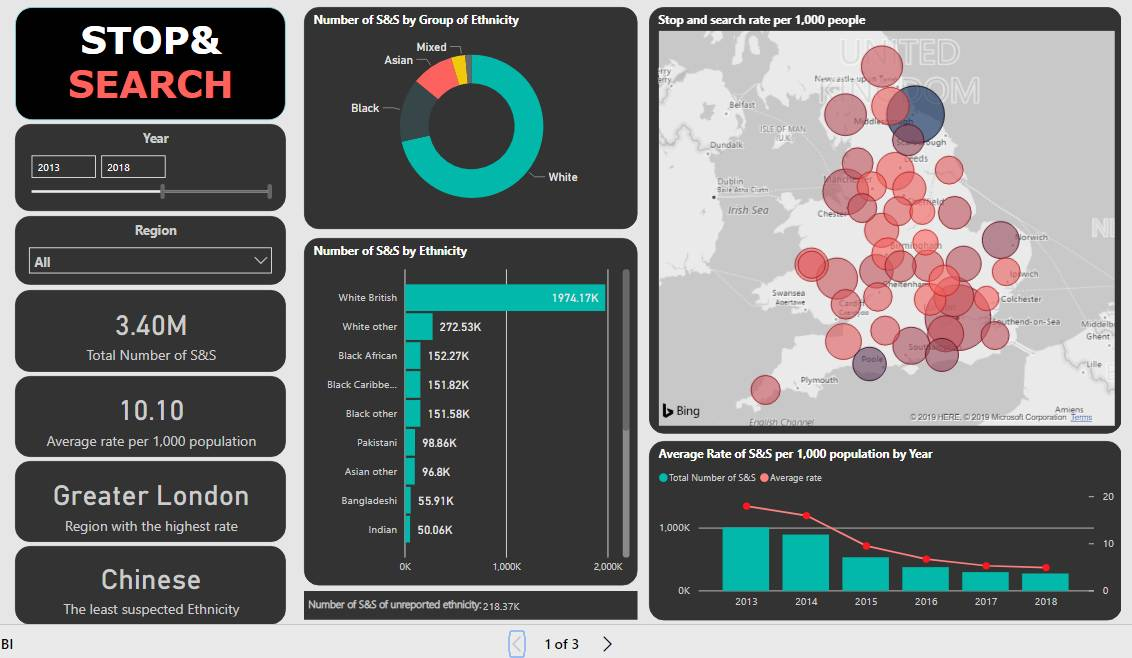

Layout of this report page (visuals, bound fields, positions):
{"tool":"powerbi","page":{"name":"Main","canvas":[1280,720],"ordinal":0},"visuals":[{"type":"textbox","box":[9.3,10.6,311.4,130],"z":0},{"type":"card","fields":{"Values":["Data.Least suspect"]},"box":[9.3,629.4,311.4,90.5],"z":12},{"type":"slicer","title":"Region","fields":{"Values":["Data.Geography"]},"box":[9.3,250.1,311.4,78.5],"z":13},{"type":"card","fields":{"Values":["Data.Measure"]},"box":[9.3,532.2,311.4,93.1],"z":506},{"type":"donutChart","title":"Number of S&S by Group of Ethnicity","fields":{"Y":["Sum(Data. Number of stop and searches )"],"Category":["Data.Ethnicity_group"]},"box":[340.6,10.6,383.2,255.5],"z":1000},{"type":"barChart","title":"Number of S&S by Ethnicity","fields":{"Category":["Data.Ethnicity"],"Y":["Sum(Data. Number of stop and searches )"]},"box":[340.6,275.4,383.2,399.2],"z":2000},{"type":"card","fields":{"Values":["Data.Total Number of S&S"]},"box":[9.3,335.3,311.4,94.5],"z":3000},{"type":"card","fields":{"Values":["Data.Average rate"]},"box":[9.3,433.8,311.4,93],"z":4000},{"type":"slicer","title":"Year","fields":{"Values":["Data.Year.Variation.Date Hierarchy.Year"]},"box":[9.3,145,311.4,99.8],"z":5000},{"type":"lineStackedColumnComboChart","title":"Average Rate of S&S per 1,000 population by Year","fields":{"Category":["Data.Year.Variation.Date Hierarchy.Year"],"Y2":["Data.Average rate"],"Y":["Data.Total Number of S&S"]},"box":[737.1,508.3,542.9,206.2],"z":7000},{"type":"textbox","box":[340.6,681.2,383.2,33.3],"z":14500},{"type":"card","fields":{"Values":["Sum(Data. Number of stop and searches )"]},"box":[532.2,682.6,71.9,37.3],"z":15000},{"type":"map","title":"Stop and search rate per 1,000 people","fields":{"Category":["Data.Country","Data.Region2"],"Size":["Data.Average rate"]},"box":[737.1,10.6,542.9,489.6],"z":15001}]}

Visuals, with their boxes in screenshot pixels (x1, y1, x2, y2):
textbox: [11,3,283,117]
card - Data.Least suspect: [11,543,283,622]
"Region" slicer: [11,212,283,281]
card - Data.Measure: [11,458,283,539]
"Number of S&S by Group of Ethnicity" donutChart: [300,3,634,226]
"Number of S&S by Ethnicity" barChart: [300,234,634,582]
card - Data.Total Number of S&S: [11,287,283,369]
card - Data.Average rate: [11,372,283,454]
"Year" slicer: [11,121,283,208]
"Average Rate of S&S per 1,000 population by Year" lineStackedColumnComboChart: [646,437,1119,617]
textbox: [300,588,634,617]
card - Sum(Data. Number of stop and searches ): [467,589,530,622]
"Stop and search rate per 1,000 people" map: [646,3,1119,430]
